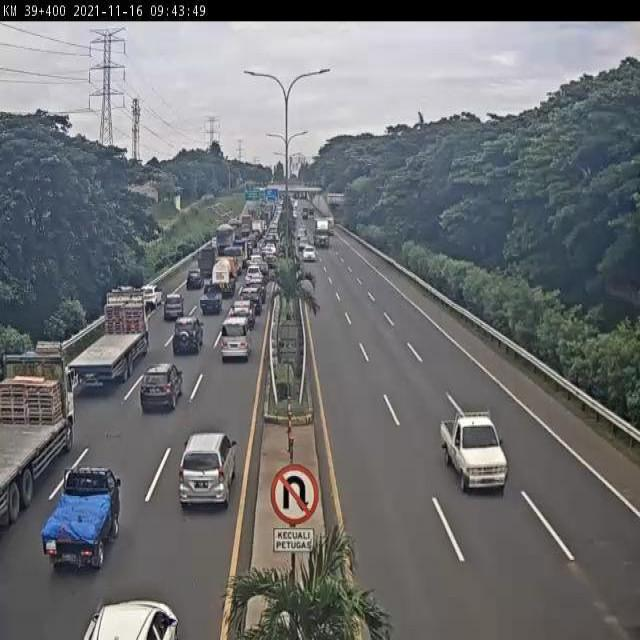car: (41, 466, 121, 570), (439, 411, 509, 493), (180, 435, 237, 512), (83, 600, 176, 640), (141, 363, 181, 412), (219, 319, 253, 365), (172, 314, 203, 354), (198, 284, 222, 317), (230, 300, 254, 333), (163, 293, 185, 320), (240, 287, 262, 313), (142, 285, 164, 307), (248, 277, 268, 299), (186, 269, 203, 291), (246, 265, 264, 284), (302, 245, 315, 260), (248, 254, 264, 266)
small truck: (195, 250, 216, 278), (225, 246, 244, 274)
truck-l-: (314, 219, 330, 248)
truck-m-: (0, 356, 75, 523), (62, 289, 148, 387), (212, 258, 235, 298), (214, 224, 234, 255)
